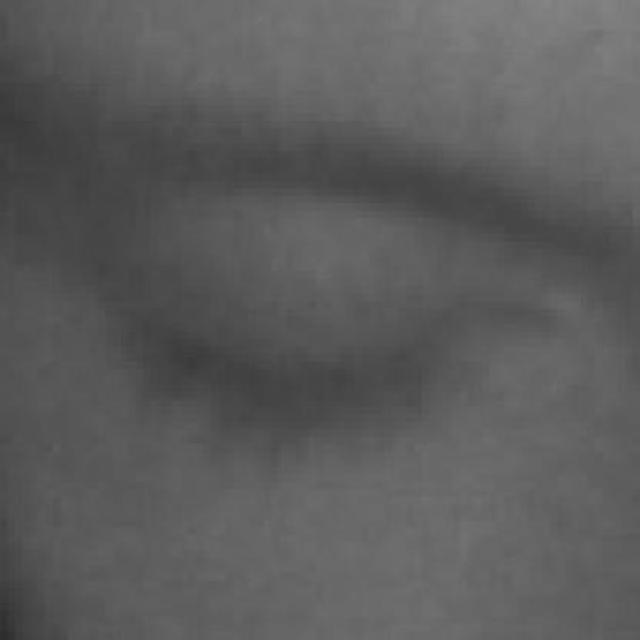drowsy: (74, 225, 472, 522)
